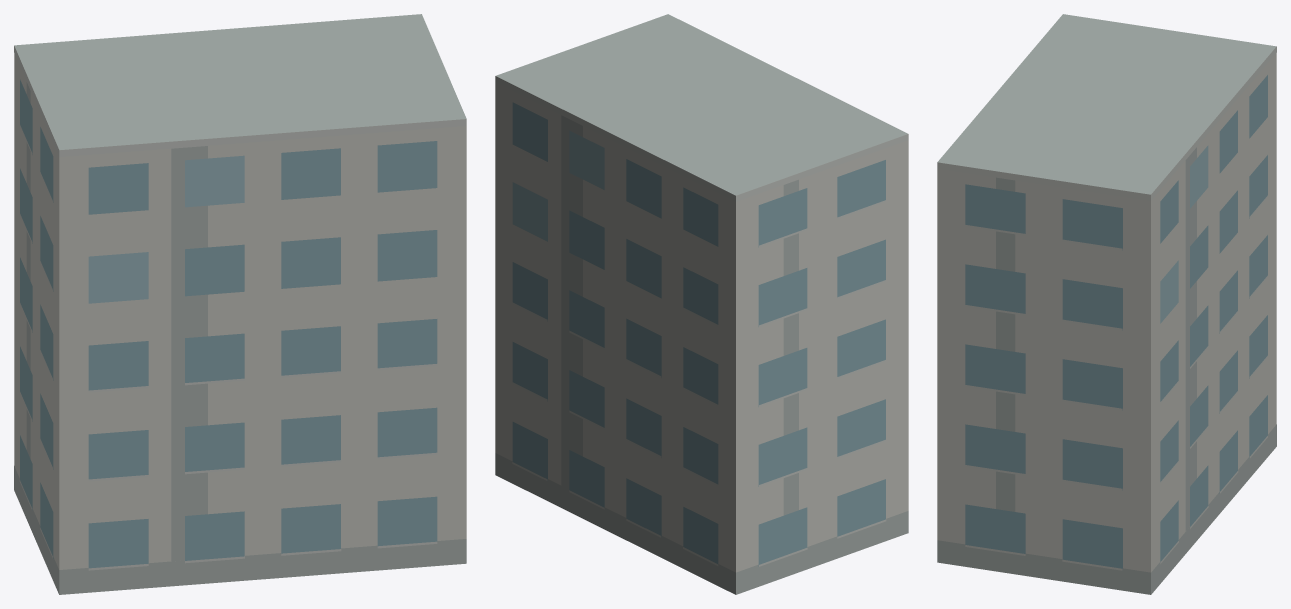
File: residential-e2eb1cad-b2f6-46c3-8f8a-8d662c1849ec.glb
3 views of the same model, side by side, from view 1: azimuth 30°, elevation 25°; view 2: azimuth 150°, elevation 25°; view 3: azimuth 270°, elevation 25° (orthographic). The views are drawn at different scales.
Visible parts, largest first — view 1: residential-e2eb1cad-b2f6-46c3-8f8a-8d662c1849ec.tmp; view 2: residential-e2eb1cad-b2f6-46c3-8f8a-8d662c1849ec.tmp; view 3: residential-e2eb1cad-b2f6-46c3-8f8a-8d662c1849ec.tmp.
Part boxes in pixels (x1,y1,x2,y2): residential-e2eb1cad-b2f6-46c3-8f8a-8d662c1849ec.tmp: [14, 14, 466, 594]; residential-e2eb1cad-b2f6-46c3-8f8a-8d662c1849ec.tmp: [495, 14, 908, 594]; residential-e2eb1cad-b2f6-46c3-8f8a-8d662c1849ec.tmp: [937, 14, 1276, 594].
Size of the model in its own units: 14.78 by 15.25 by 11.73.
